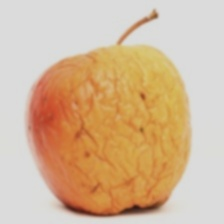apple: (7, 20, 199, 204)
